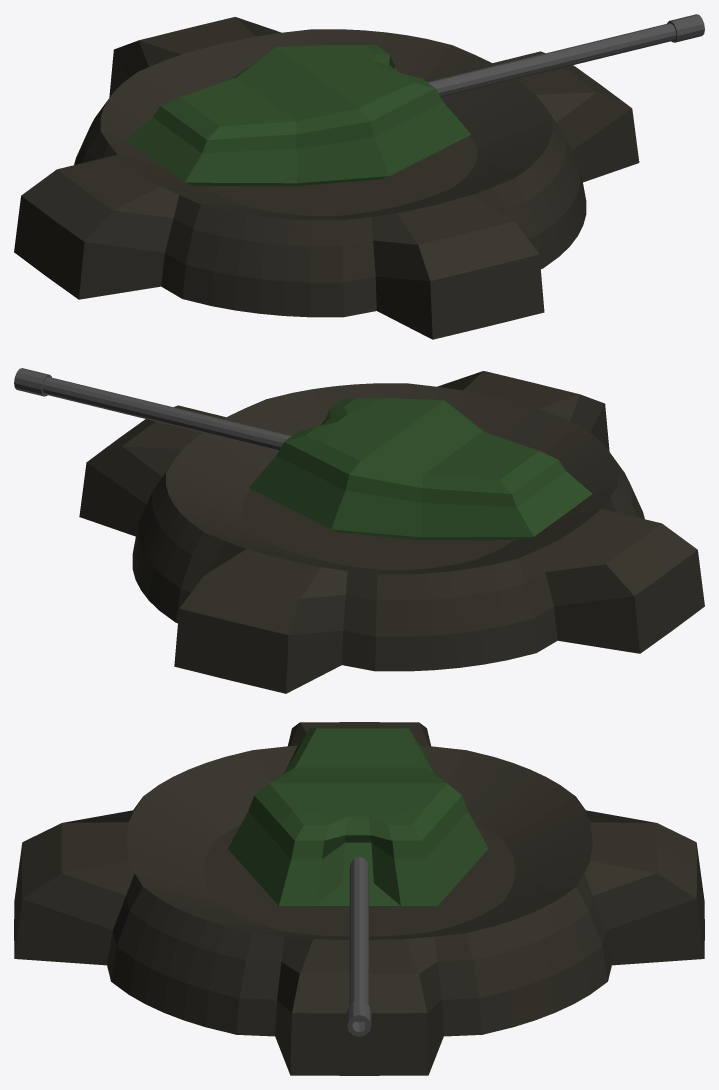
Rendered from Tier_1_Konzept.fbx.
3 renders of one model, top to bottom at view 1: azimuth 30°, elevation 25°; view 2: azimuth 150°, elevation 25°; view 3: azimuth 270°, elevation 25°, orthographic. The views are drawn at different scales.
Visible parts, largest first — view 1: Fundament, Geschuetzturm, Lauf; view 2: Fundament, Geschuetzturm, Lauf; view 3: Fundament, Geschuetzturm, Lauf.
Part boxes in pixels (x1,y1,x2,y2): Fundament: [14, 17, 639, 339]; Geschuetzturm: [126, 45, 471, 186]; Lauf: [427, 14, 704, 97]; Fundament: [79, 371, 704, 693]; Geschuetzturm: [249, 398, 592, 540]; Lauf: [14, 368, 291, 451]; Fundament: [14, 722, 704, 1075]; Geschuetzturm: [228, 728, 488, 906]; Lauf: [347, 856, 371, 1036].
Bounding box in the file's own units: 185 × 36.02 × 159.
